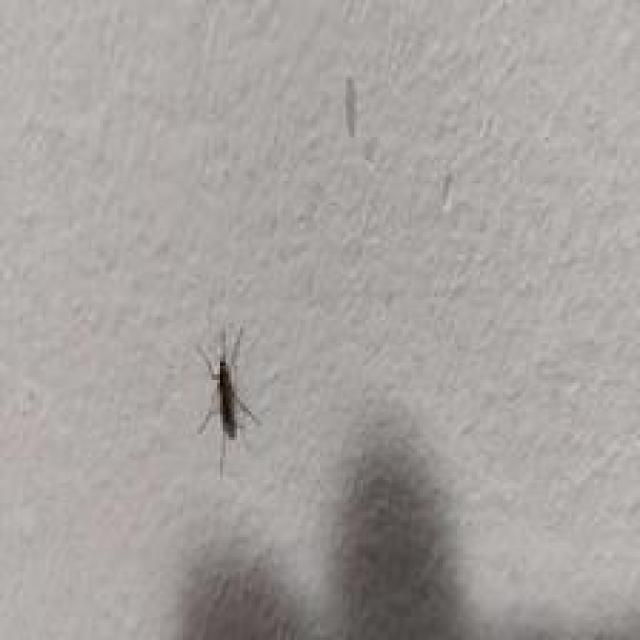Culex: (196, 323, 261, 477)
